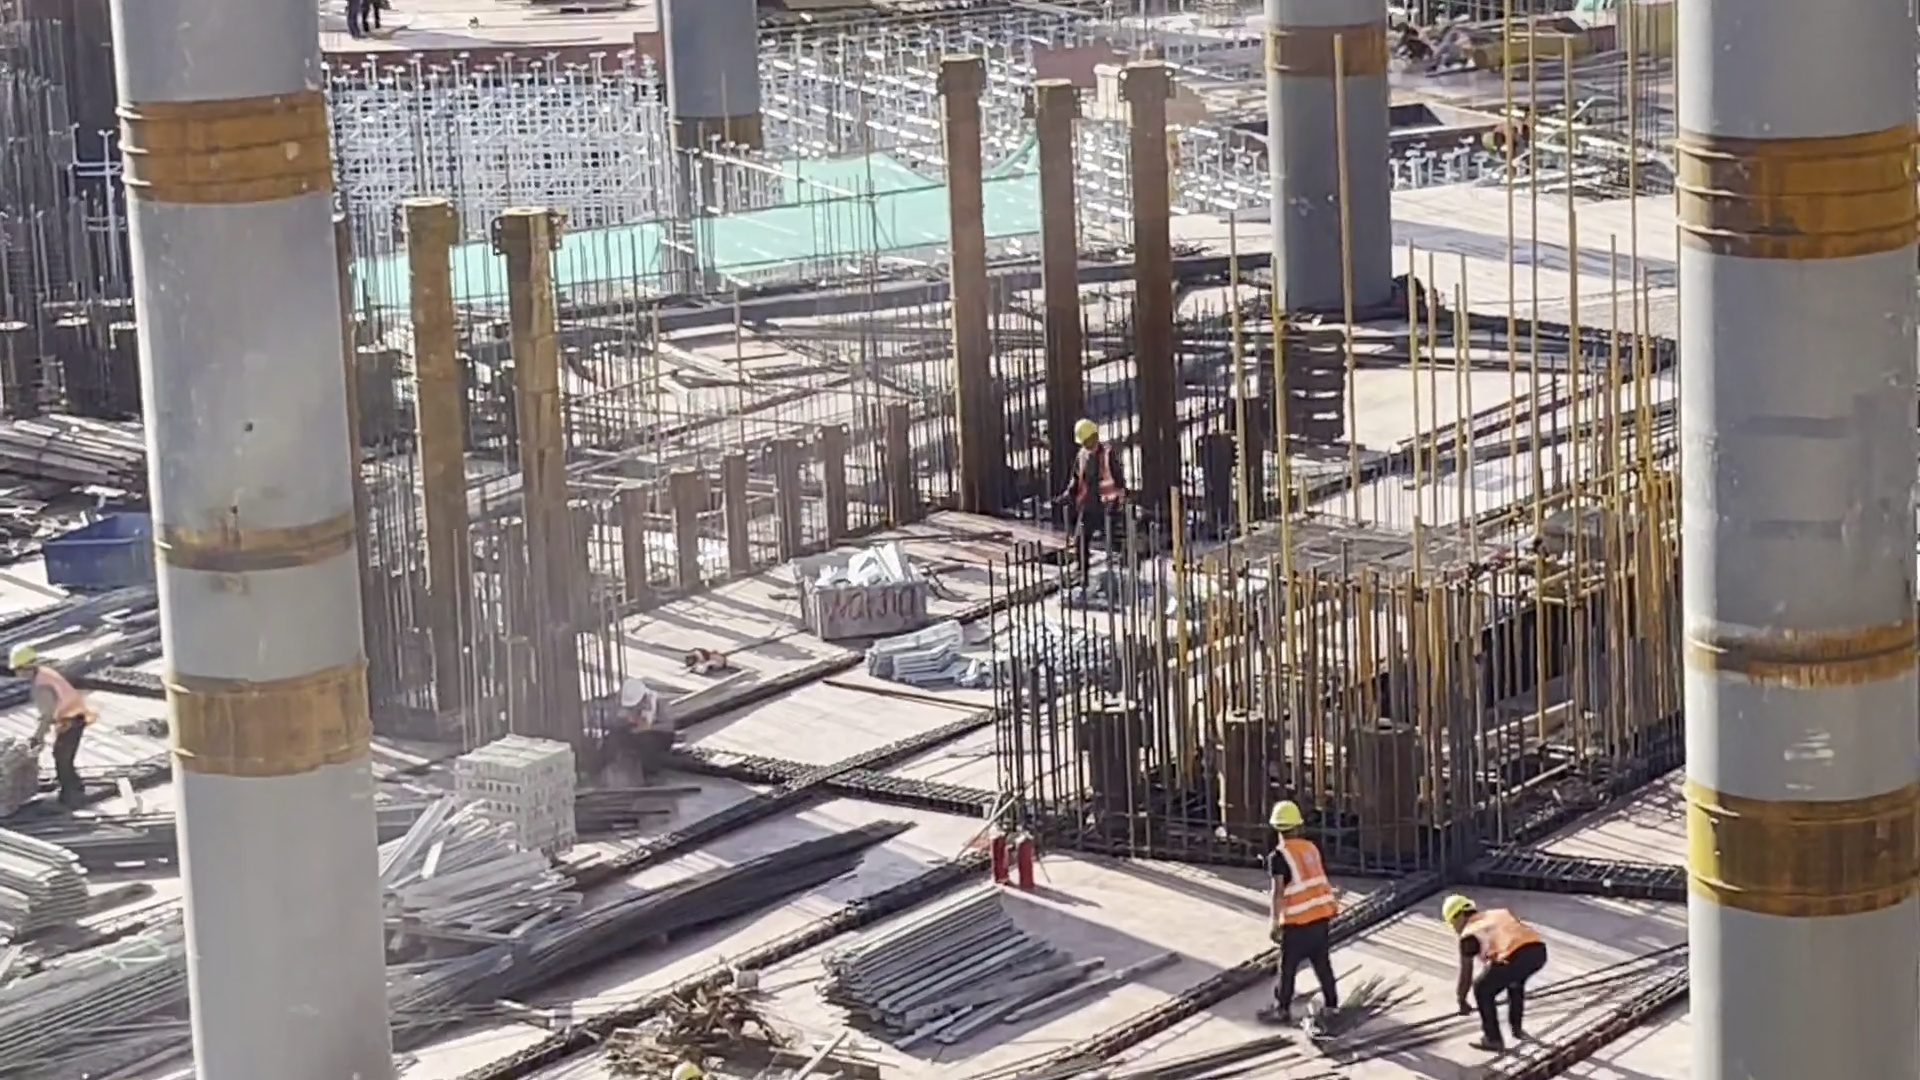helmet: (612, 678, 654, 712), (7, 633, 41, 672), (1437, 900, 1482, 927), (1267, 800, 1297, 835), (1063, 418, 1102, 442)
person: (1433, 875, 1545, 1063), (1249, 793, 1336, 1009), (6, 649, 92, 802), (1052, 409, 1132, 572), (589, 672, 689, 785)
vest: (1267, 837, 1335, 927), (23, 674, 93, 726), (1474, 909, 1539, 959), (1068, 449, 1124, 501)
